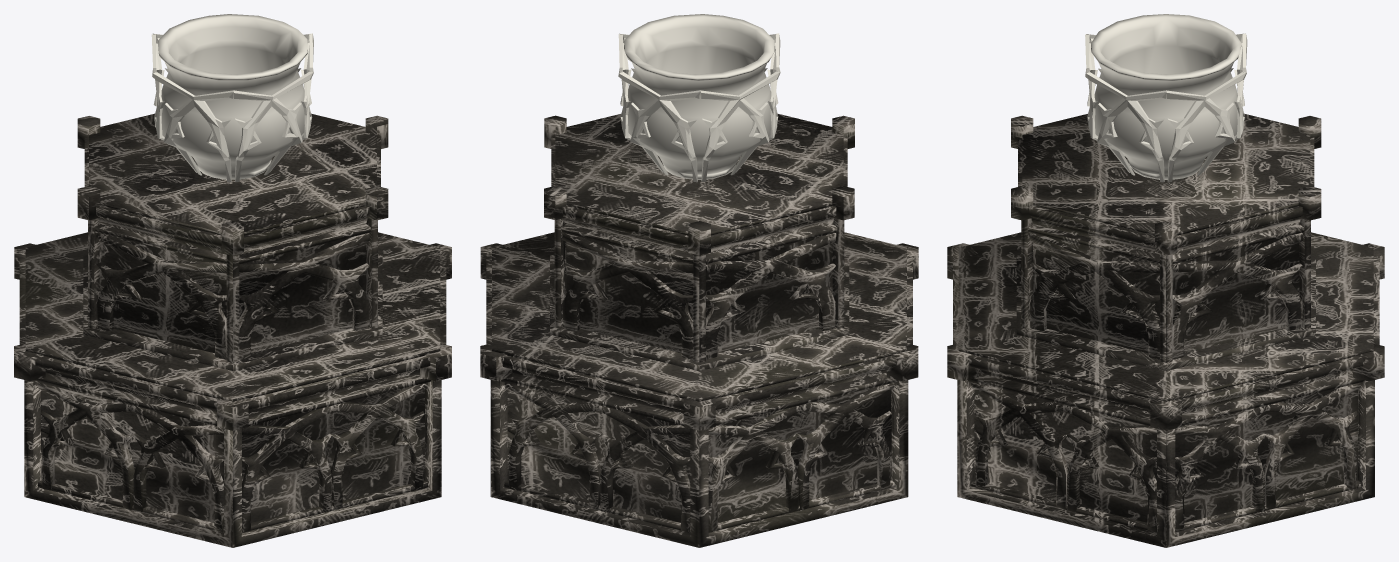
The model's file is spawner.glb.
3 views of the same model, side by side, from view 1: azimuth 30°, elevation 25°; view 2: azimuth 150°, elevation 25°; view 3: azimuth 270°, elevation 25° (orthographic).
Parts seen in each view (by area): view 1: Spawner; view 2: Spawner; view 3: Spawner.
Boxes of the visible parts, x1,y1,x2,y2 form: Spawner: (14, 14, 451, 547); Spawner: (480, 14, 918, 547); Spawner: (947, 14, 1384, 547).
Size of the model in its own units: 3.66 by 3.19 by 3.17.
2 materials, 1 textured.
